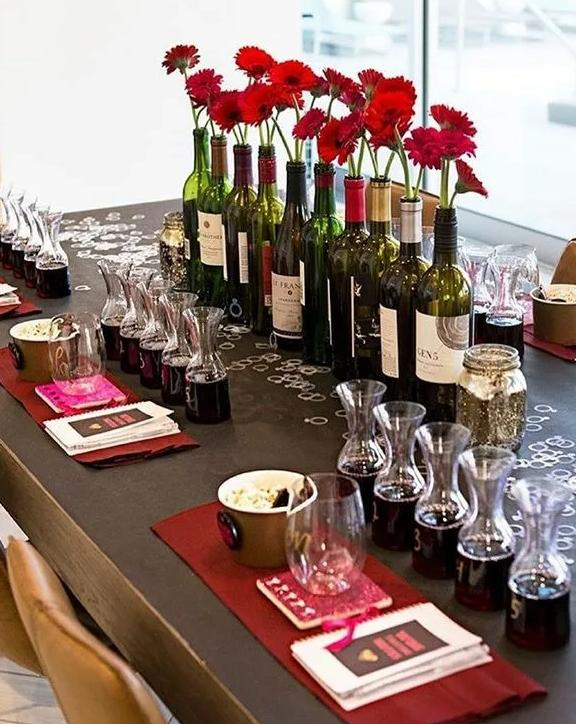wine bottle: (414, 203, 474, 436), (378, 196, 432, 433), (351, 174, 402, 396), (297, 162, 345, 369), (326, 173, 371, 385), (269, 160, 311, 355), (248, 143, 286, 337), (220, 142, 260, 324), (196, 134, 235, 314), (183, 126, 212, 304)
wine label: (415, 308, 469, 384), (270, 270, 300, 339), (356, 299, 380, 371), (196, 209, 221, 267), (299, 260, 306, 306), (222, 224, 227, 282)
